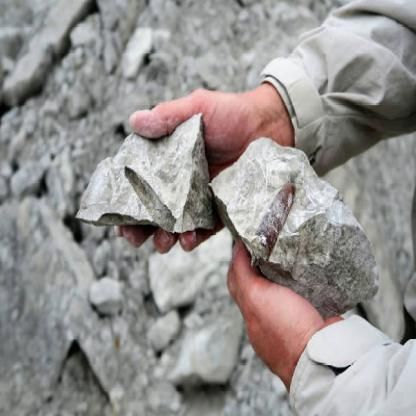Sedimentary_Limestone: (222, 131, 383, 295), (59, 95, 213, 261)
